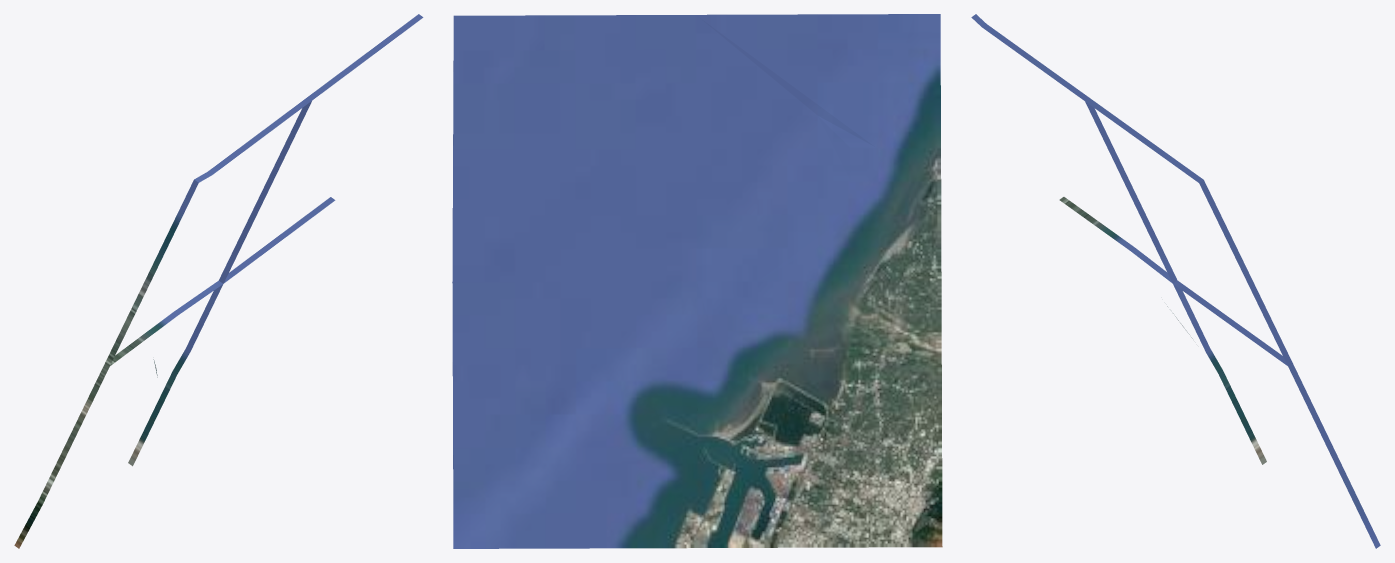
3 renders of one model, left to right at view 1: azimuth 30°, elevation 25°; view 2: azimuth 150°, elevation 25°; view 3: azimuth 270°, elevation 25°, orthographic. The views are drawn at different scales.
Bounding box in the file's own units: 19707 × 17991 × 16211.
Materials: 1 (1 with a texture image).
